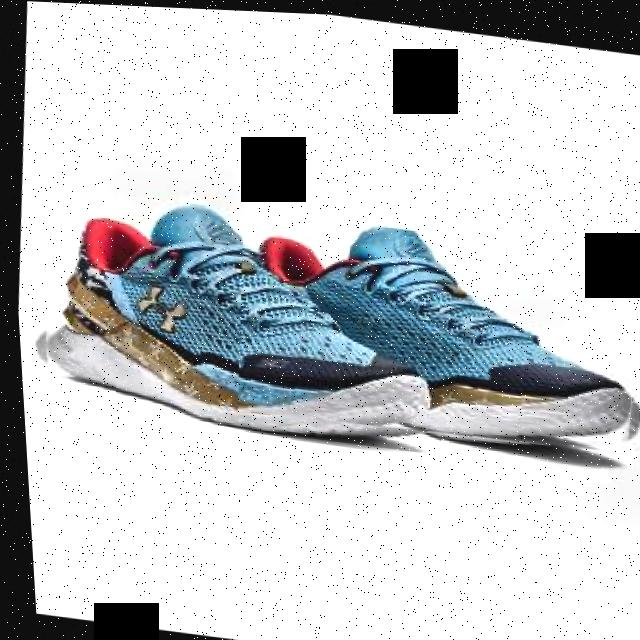shoe: (18, 182, 454, 452), (223, 205, 640, 458)
